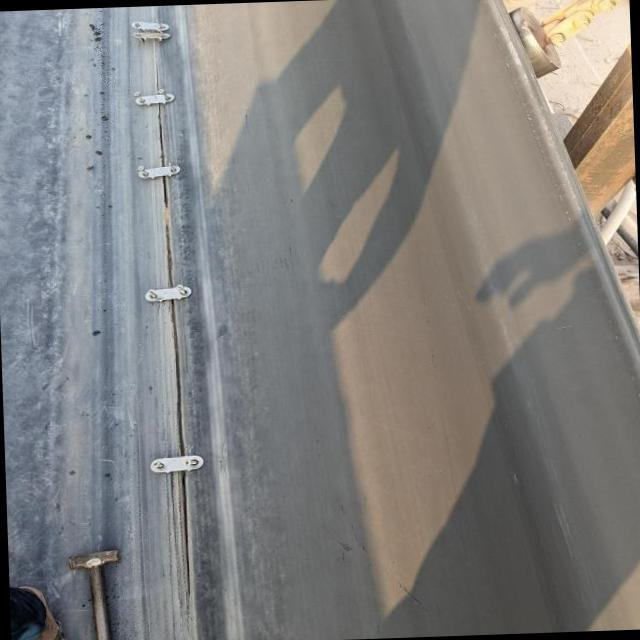Tear: (146, 37, 200, 601)
